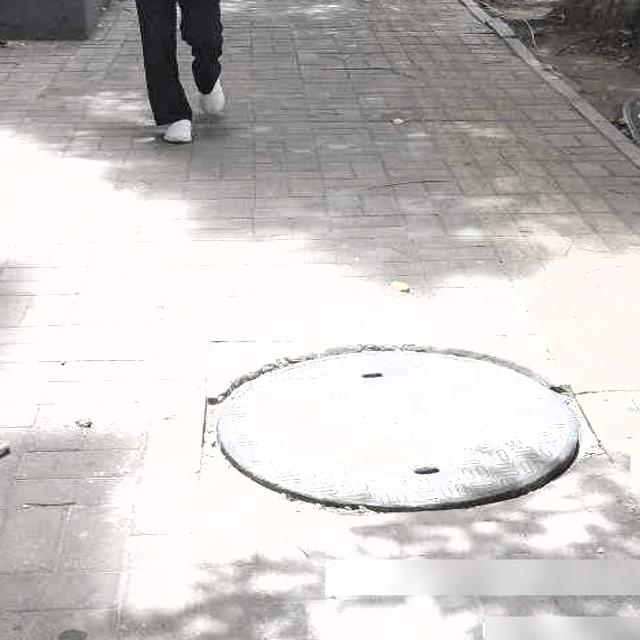circle: (206, 343, 592, 516)
